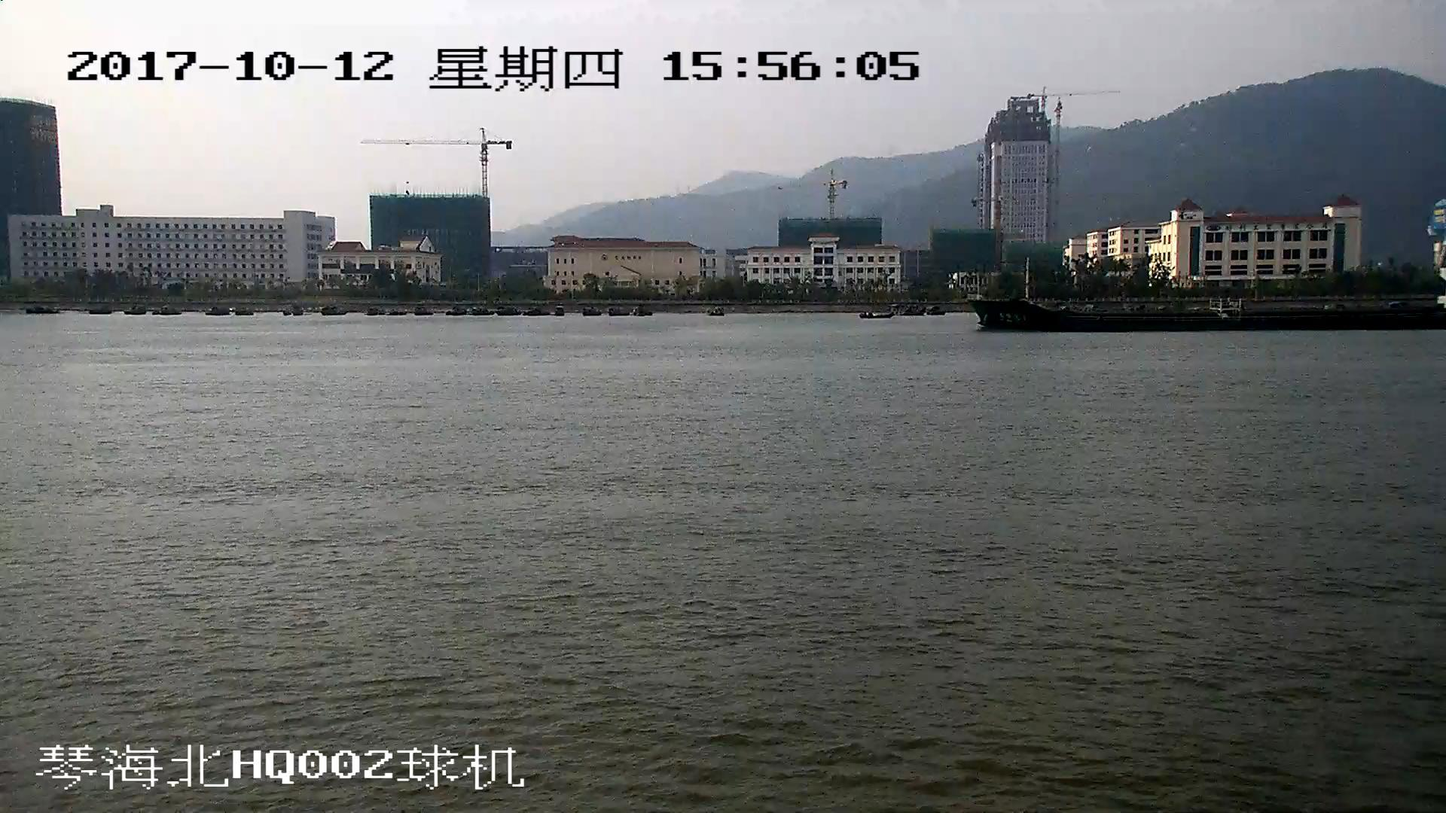general cargo ship: (971, 280, 1445, 327)
